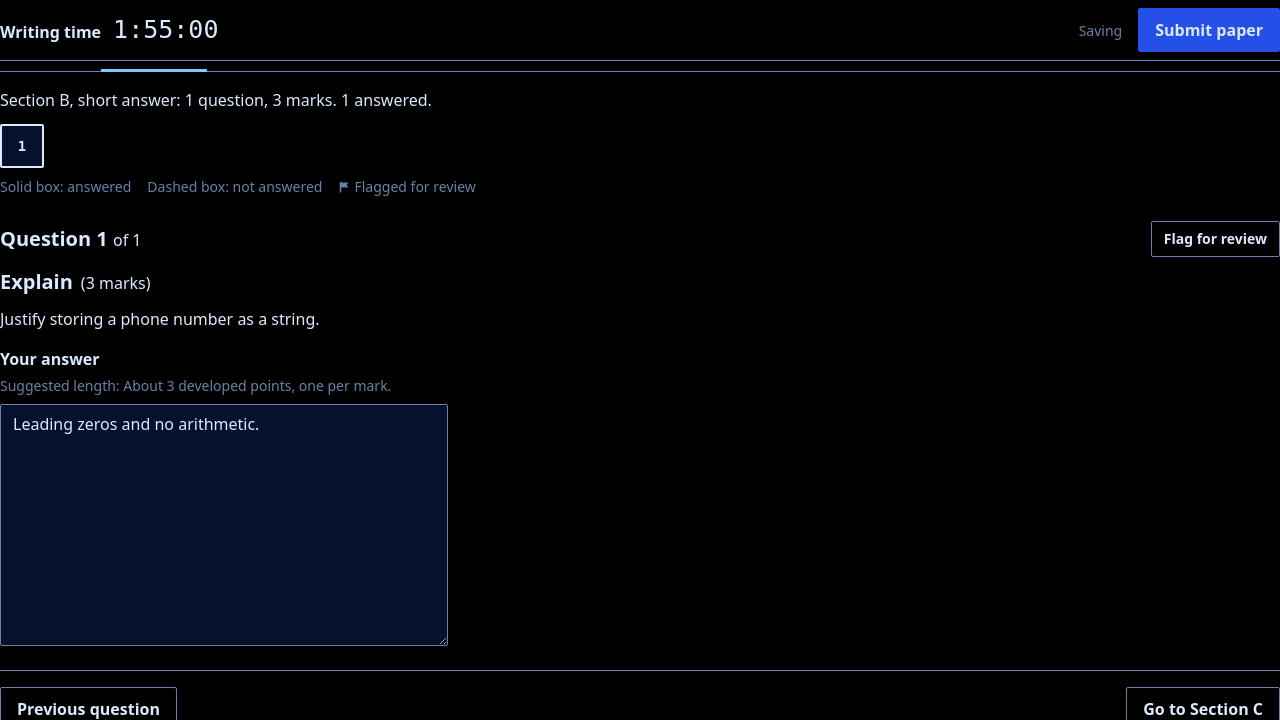
Test: exam screen › asks before submitting, warns about unanswered questions, then marks the paper and reports it
The image size is (1280, 720).
Earlier steps of the test are not shown.
Later steps or results of the test are not shown.
(page scrolled)
Click the button "Submit paper". click: point(1209, 30)
box: [1138, 8, 1279, 52]
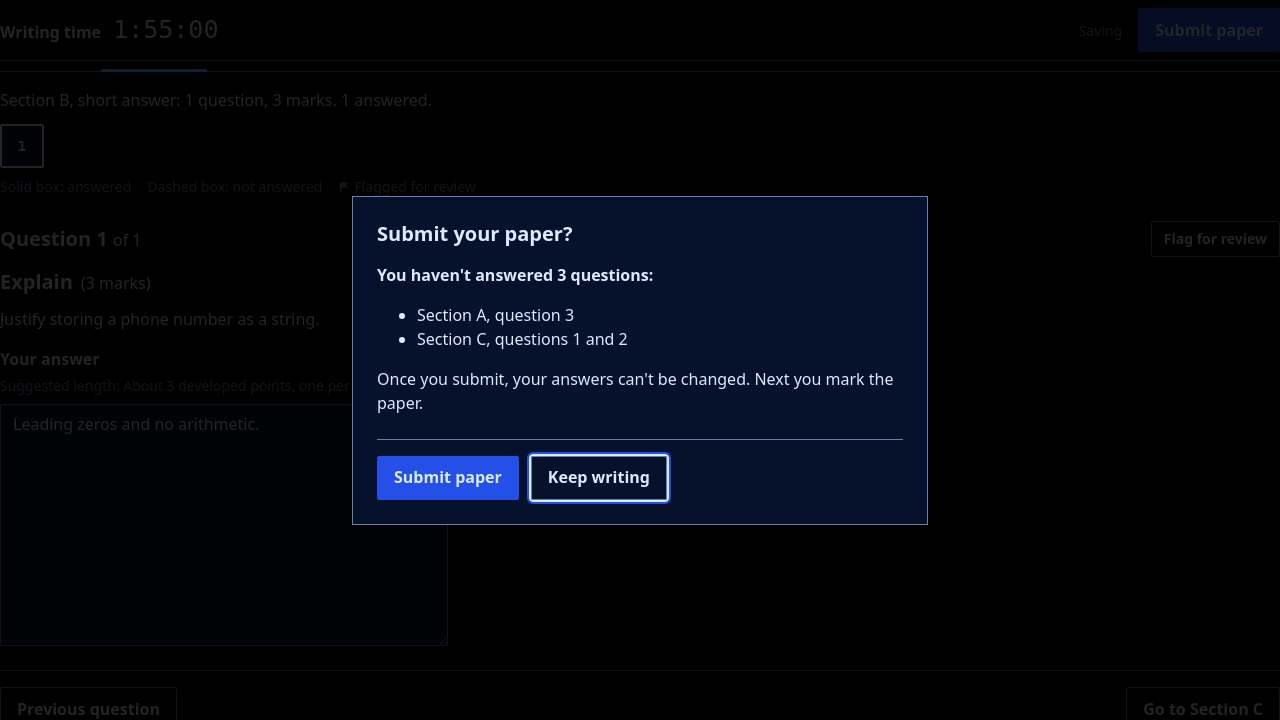
Expected: the text "You haven't answered 3 questions:" is shown, [377, 264, 653, 286]
Expected: the list item "Section A, question 3" is shown, [417, 304, 574, 326]
Expected: the list item "Section C, questions 1 and 2" is shown, [417, 328, 628, 350]
Click the button "Keep writing". click: point(599, 478)
box: [531, 456, 667, 500]
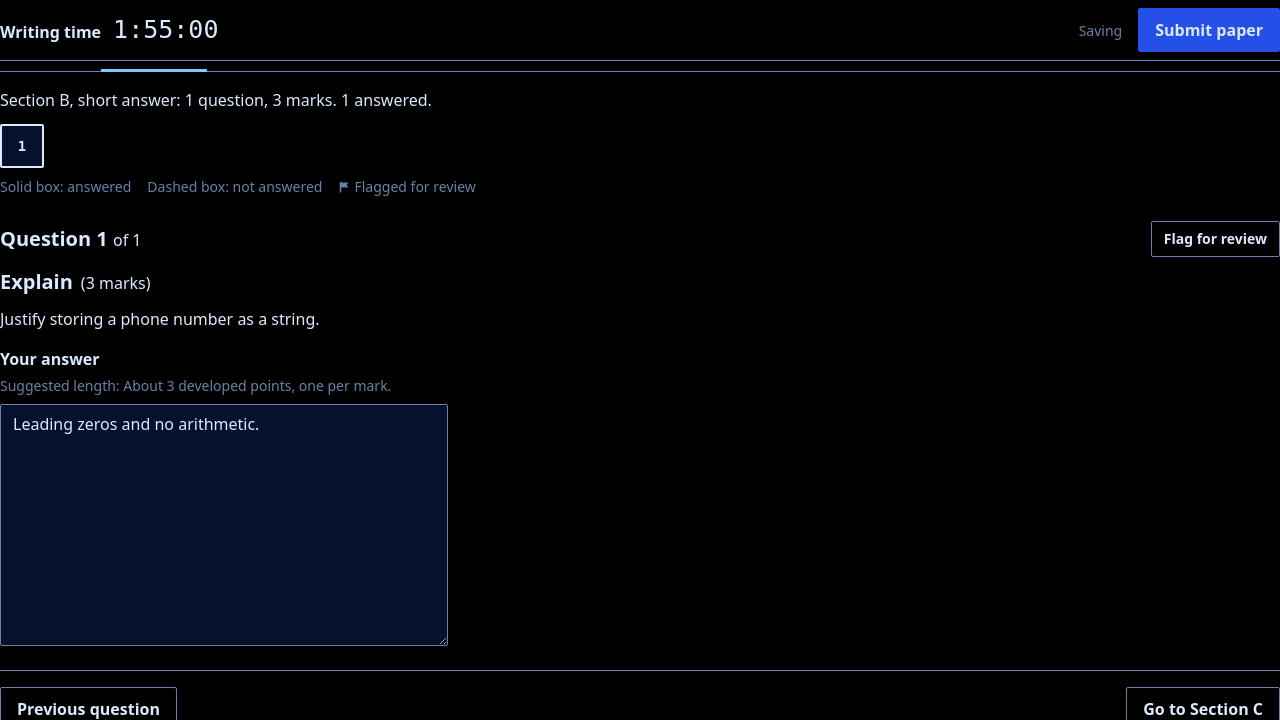
Click the button "Submit paper". click: point(1209, 30)
box: [1138, 8, 1279, 52]
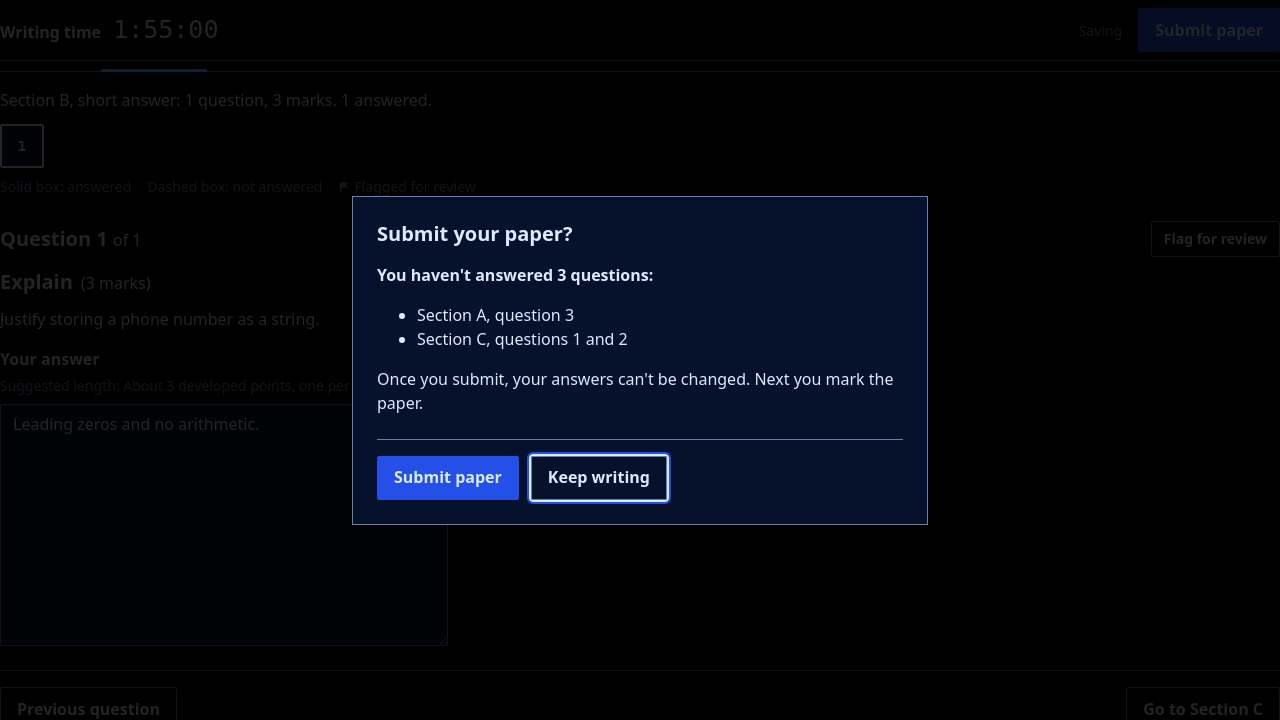
Click the button "Submit paper". click: point(448, 478)
box: [377, 456, 519, 500]
(page scrolled)
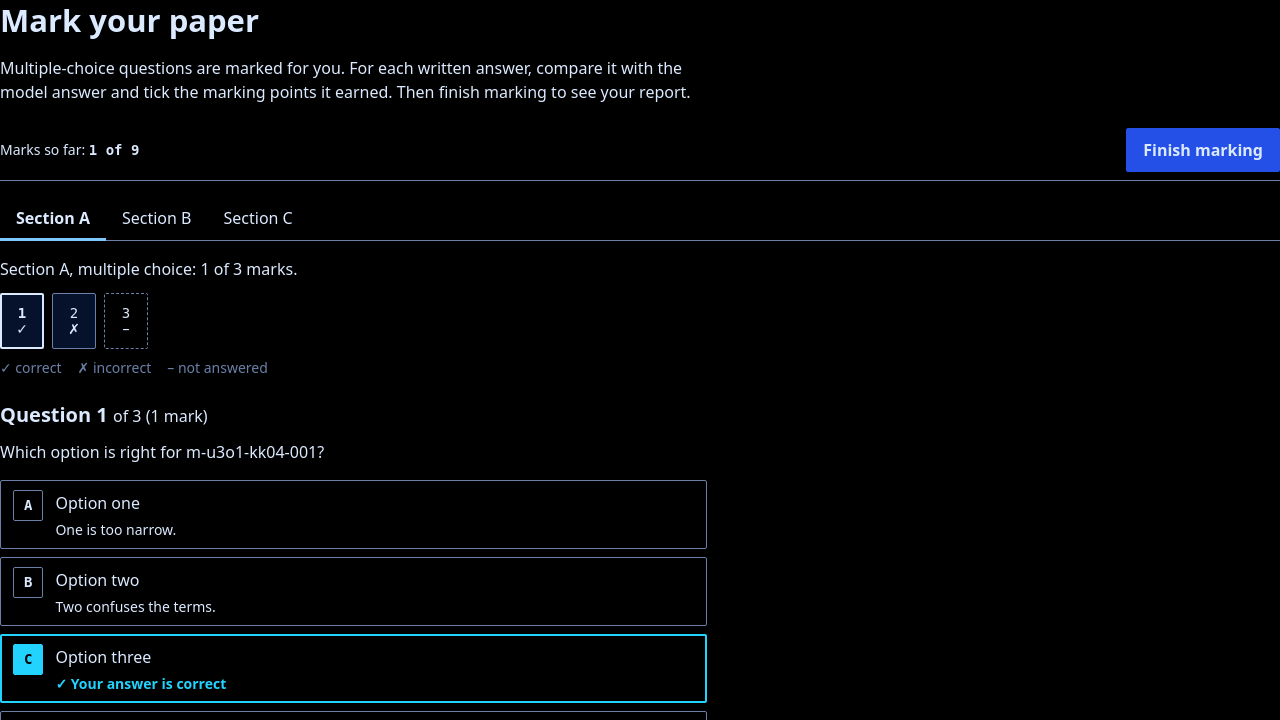
Expected: the text "Your answer is correct" is shown, [71, 674, 226, 693]
Expected: the button named "Question 1, correct" is shown, [0, 293, 44, 349]
Expected: the button named "Question 2, incorrect" is shown
Click the button named "Question 2, incorrect". click: point(74, 321)
box: [52, 293, 96, 349]
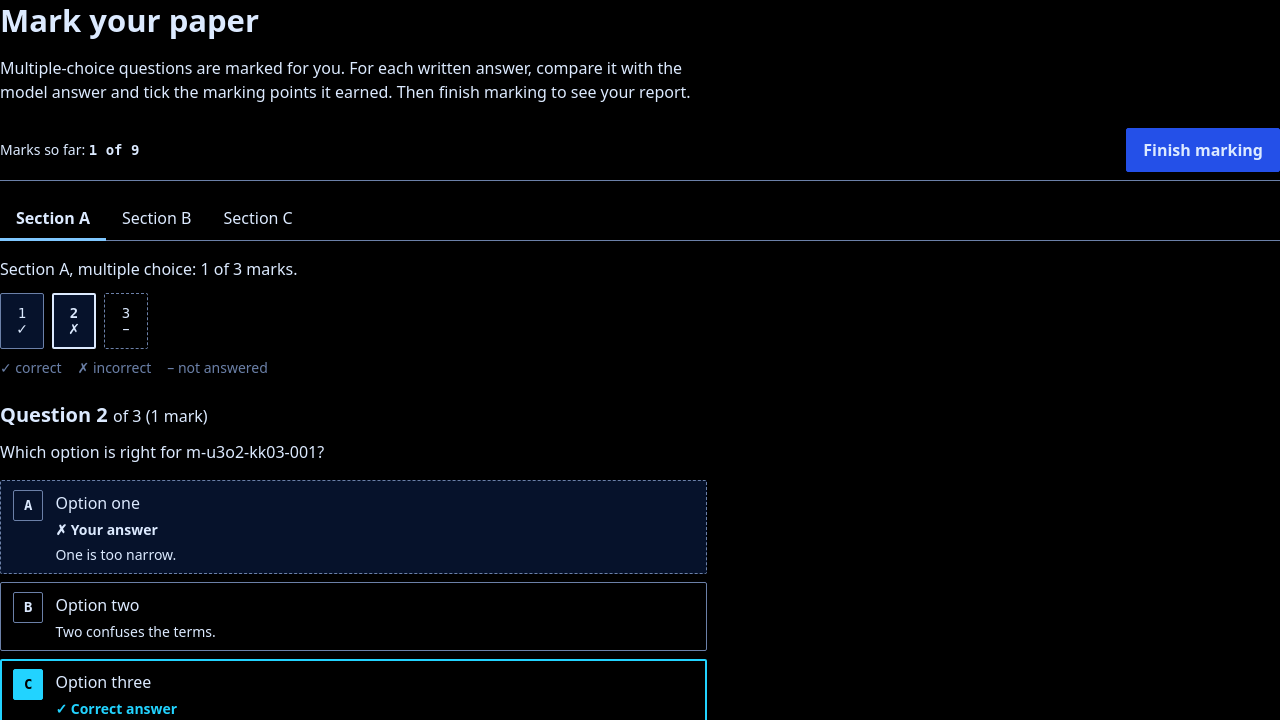
Expected: the text "Two confuses the terms." is shown, [55, 622, 216, 641]
Expected: the text "Your answer" is shown, [71, 520, 158, 539]
Click the tab "Section B". click: point(157, 219)
box: [106, 197, 208, 241]
(page scrolled)
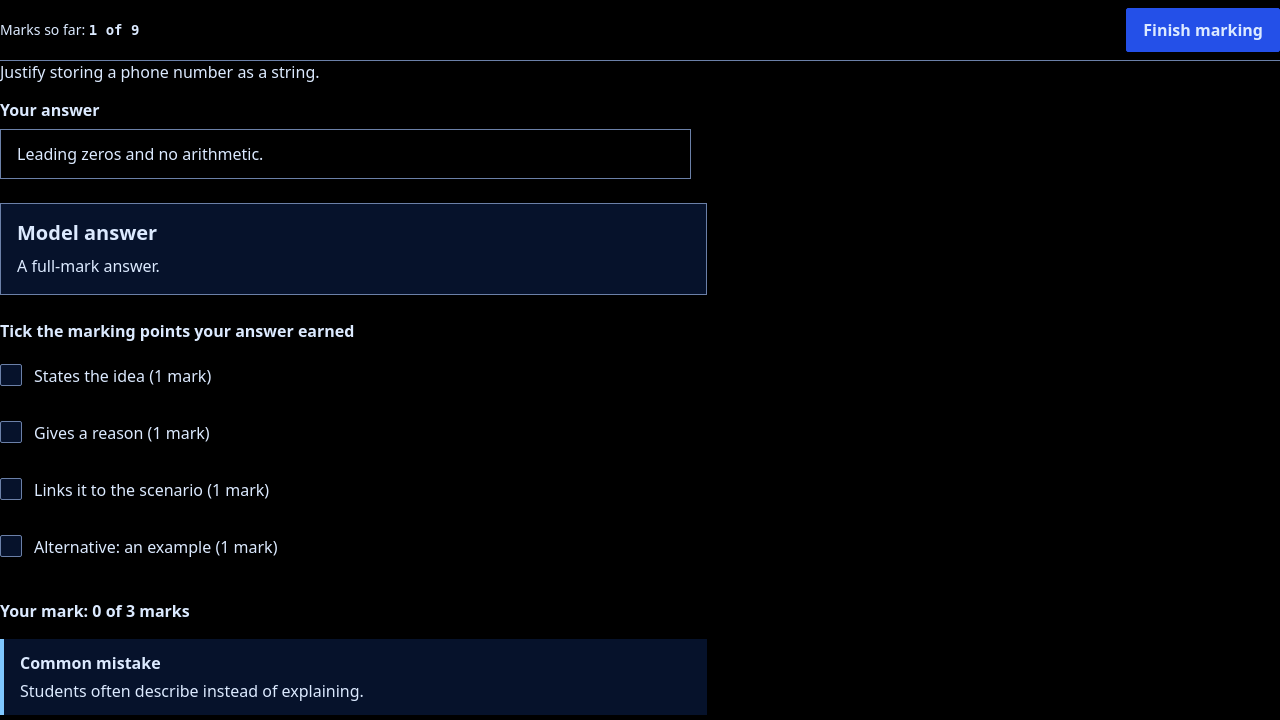
Expected: the text "Leading zeros and no arithmetic." is shown, [0, 129, 691, 179]
Expected: the heading "Model answer" is shown, [17, 219, 157, 246]
